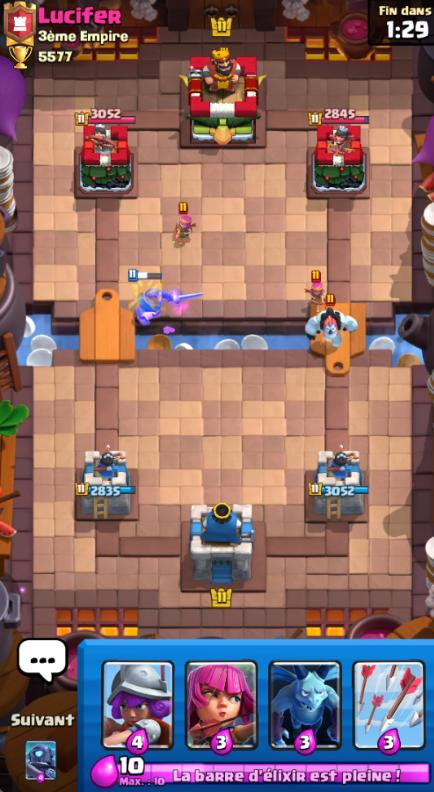archere: (172, 215, 197, 244)
chevalier: (128, 280, 206, 322)
